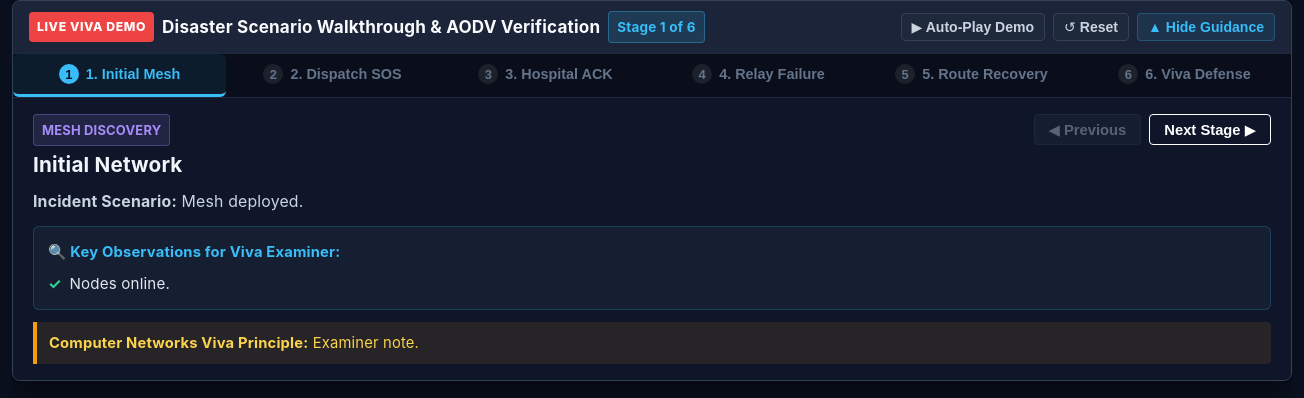
Test: GuidedDemoPanel Component › toggles guidance section on button click
The image size is (1304, 398).
Check: the text "🔍 Key Observations for Viva Examiner:" is shown, box [48,243,340,261]
Note: Click toggle to hide
Click the button "▲ Hide Guidance" at (1206, 27), box [1137,13,1275,41]
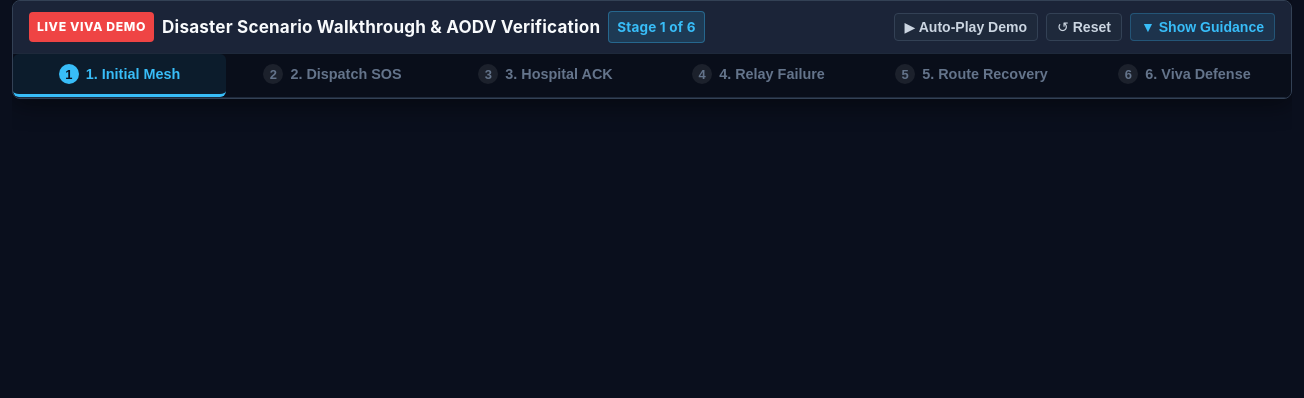
Check: the button "▼ Show Guidance" is shown, box [1130,13,1275,41]
Check: the text "Key Observations for Viva Examiner:" is gone
